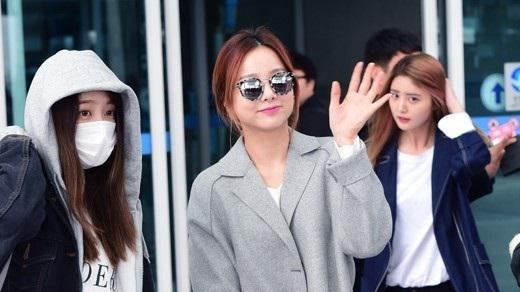NONE: (237, 68, 295, 132), (390, 85, 426, 132)
OK: (67, 97, 120, 166)
